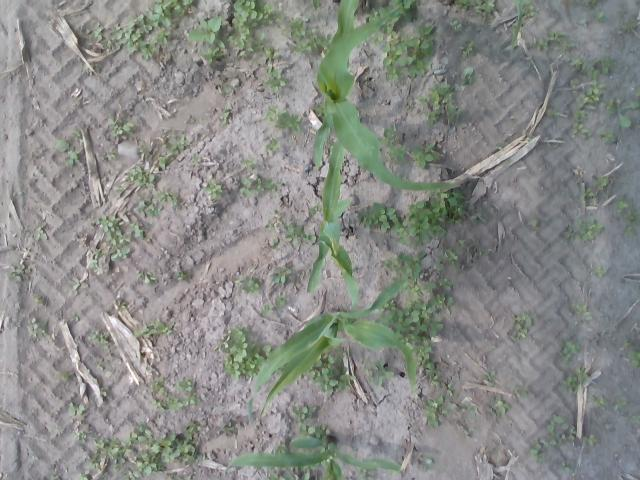Maize: (312, 1, 460, 192), (248, 278, 418, 426), (307, 140, 359, 310), (228, 435, 402, 480)
Weeds: (88, 192, 188, 274), (88, 420, 204, 480), (86, 0, 194, 64), (358, 188, 472, 246), (567, 57, 640, 147), (228, 0, 332, 57), (116, 130, 190, 194), (410, 238, 488, 298), (528, 412, 600, 474), (376, 22, 434, 84), (384, 299, 456, 342), (214, 324, 258, 380), (265, 207, 317, 250), (414, 342, 453, 396), (419, 82, 464, 126), (148, 375, 202, 411), (313, 354, 359, 396), (104, 117, 136, 162), (188, 14, 227, 50), (292, 402, 330, 437), (239, 172, 286, 200), (379, 252, 428, 278), (512, 0, 536, 52), (562, 216, 607, 243), (363, 356, 397, 390), (534, 28, 578, 54), (613, 196, 640, 238), (265, 46, 288, 95), (379, 126, 406, 165), (134, 317, 178, 340), (266, 104, 302, 132), (558, 363, 590, 394), (454, 0, 498, 21), (424, 395, 449, 431), (508, 310, 535, 343), (411, 139, 444, 166), (485, 392, 512, 424), (56, 140, 82, 170), (619, 334, 640, 370), (27, 314, 52, 344), (582, 176, 608, 204), (258, 296, 288, 318), (619, 3, 640, 34), (574, 9, 608, 28), (195, 46, 228, 65), (218, 69, 240, 97), (235, 274, 262, 295), (67, 276, 92, 298), (268, 468, 313, 480), (272, 265, 294, 288), (203, 177, 223, 202), (470, 204, 490, 227), (560, 340, 580, 362), (67, 400, 90, 419), (8, 262, 30, 281), (568, 302, 592, 319), (90, 329, 112, 346), (32, 221, 48, 242), (220, 103, 233, 128), (175, 268, 194, 285), (588, 394, 608, 410), (461, 41, 475, 63), (220, 420, 238, 437), (239, 153, 258, 168), (460, 68, 474, 88), (136, 269, 157, 282), (483, 370, 499, 386), (264, 138, 280, 153), (354, 469, 375, 480), (423, 458, 437, 474), (612, 398, 626, 414), (592, 265, 606, 281), (514, 386, 534, 397), (114, 299, 128, 314), (546, 106, 560, 120), (190, 152, 203, 167), (32, 292, 48, 304), (78, 428, 90, 444), (186, 116, 206, 125), (451, 20, 464, 33), (59, 370, 70, 385), (406, 98, 417, 112), (527, 219, 539, 231), (91, 64, 106, 73), (72, 129, 82, 141), (630, 415, 640, 427), (70, 313, 80, 324), (583, 0, 598, 7), (100, 388, 110, 398), (79, 473, 93, 480), (527, 130, 535, 142), (313, 0, 321, 10), (52, 474, 63, 480), (495, 143, 503, 151), (510, 115, 515, 120)
